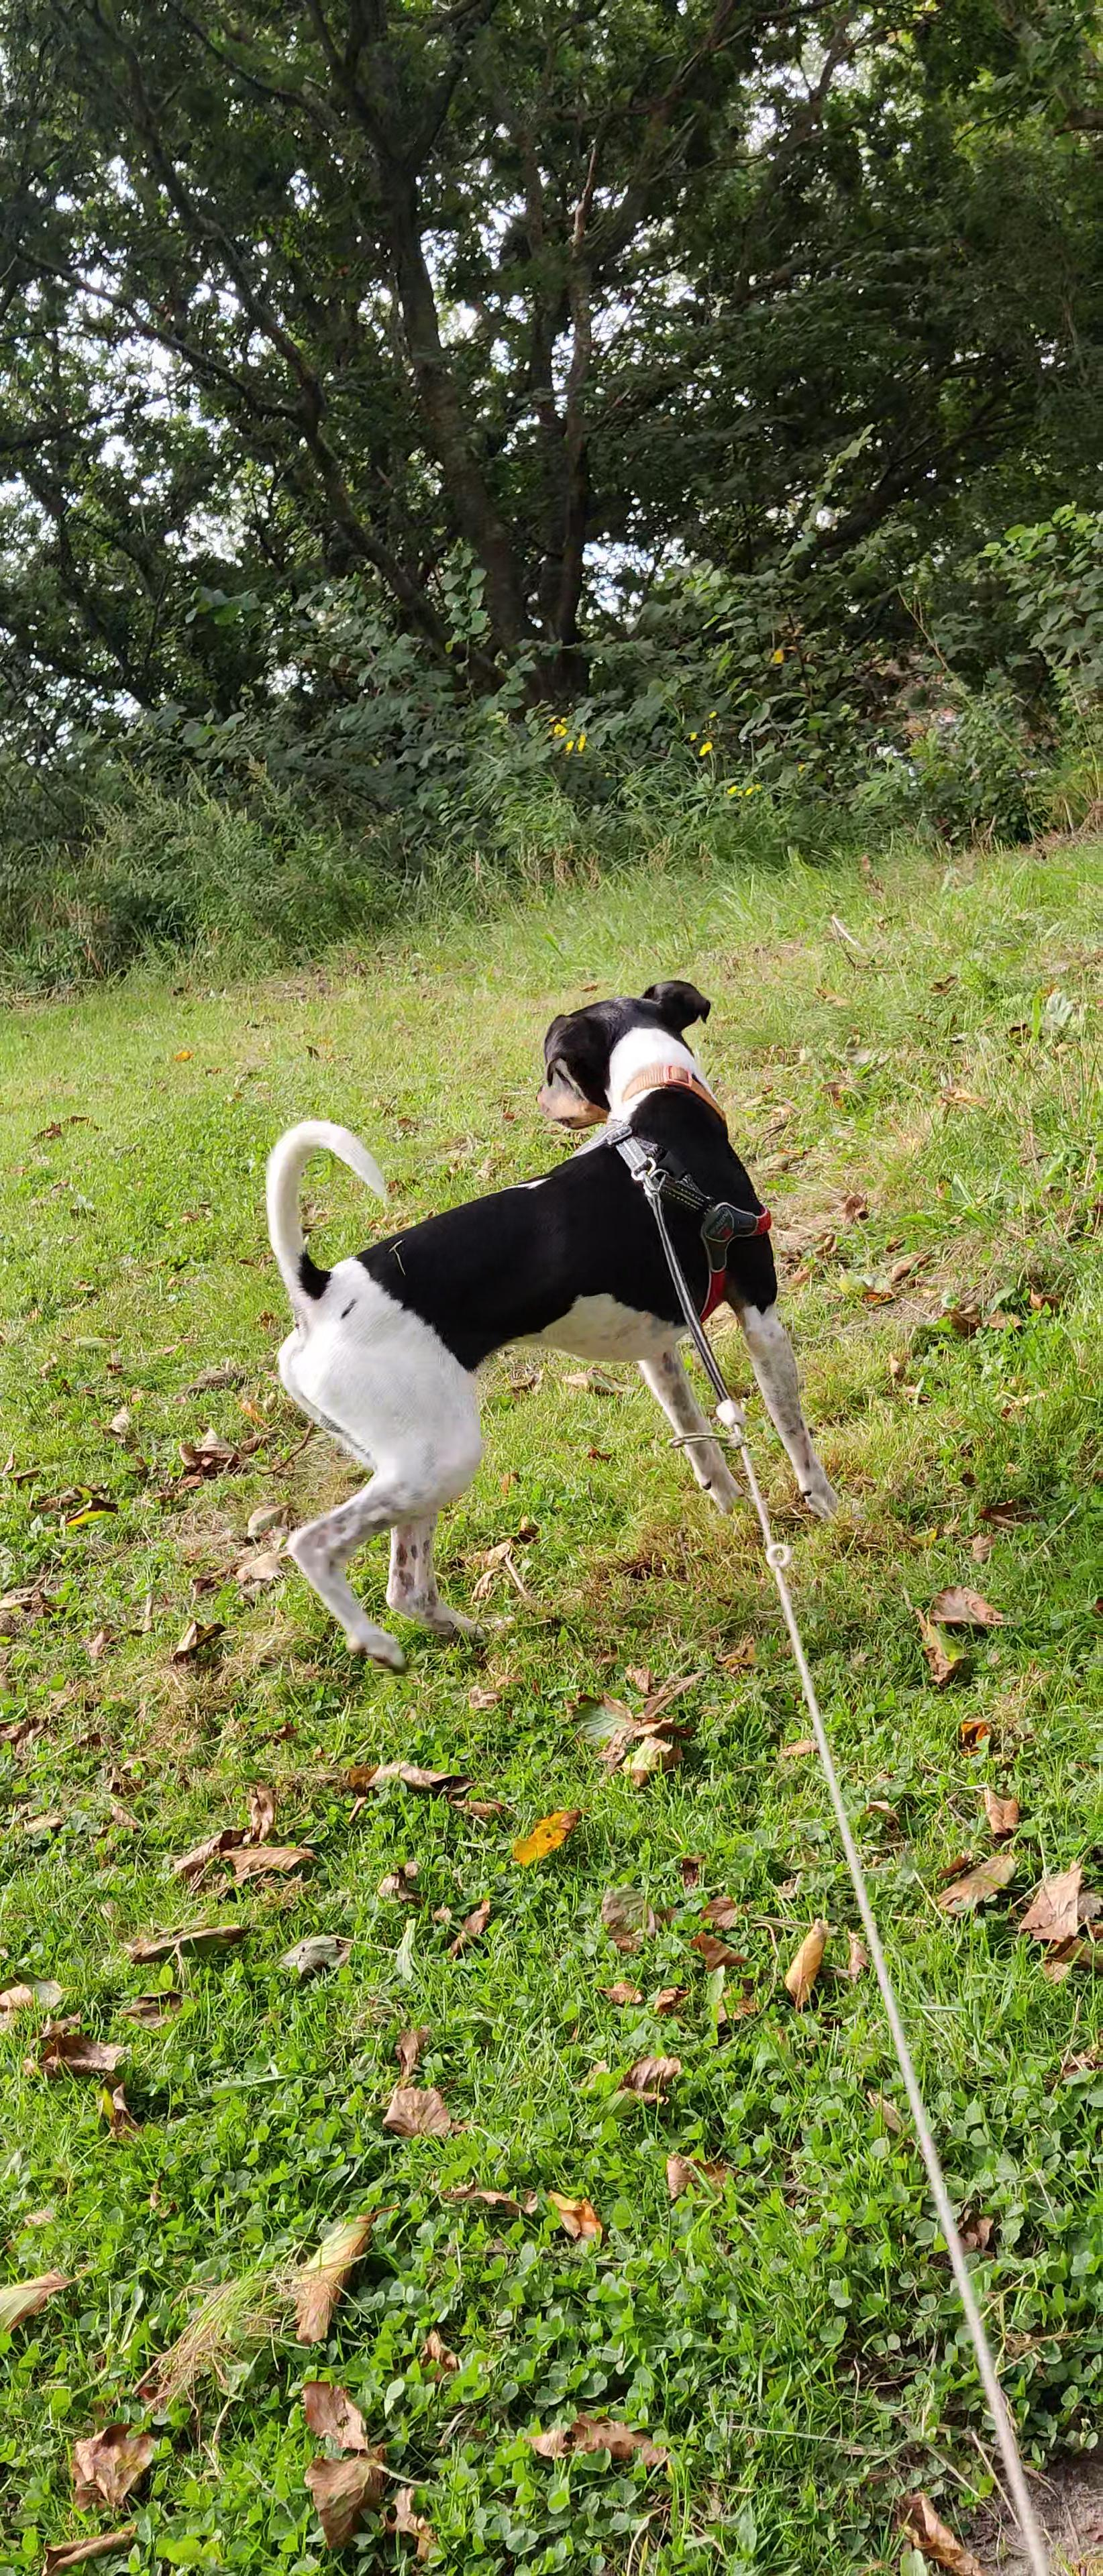Dog: (191, 930, 858, 1715)
